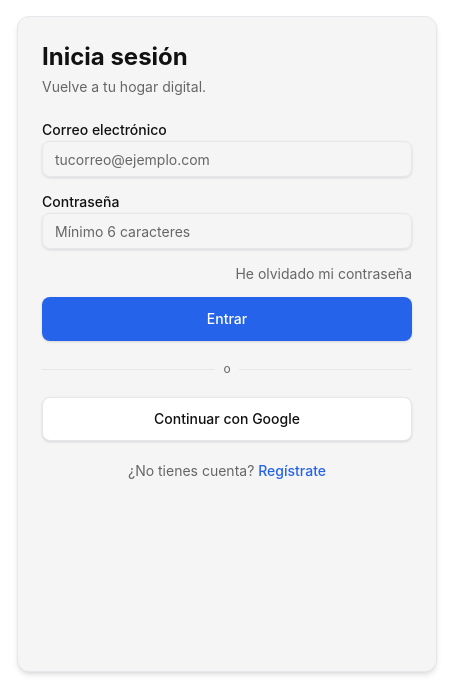
AuthView (base) — recuperar contraseña › exige el email antes de disparar la recuperación
What coordinates should you click on to do the following:
click the button "He olvidado mi contraseña"
I would click on:
 (324, 274)
Its box is [235,264,412,284].
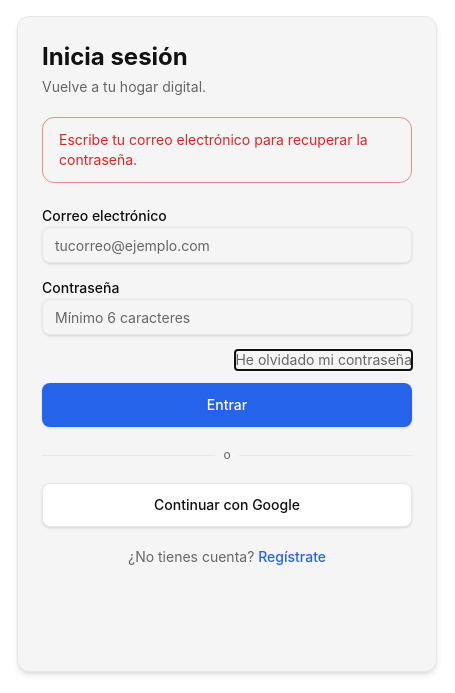
Check: the message shows "Escribe tu correo", box [59,131,368,168]
